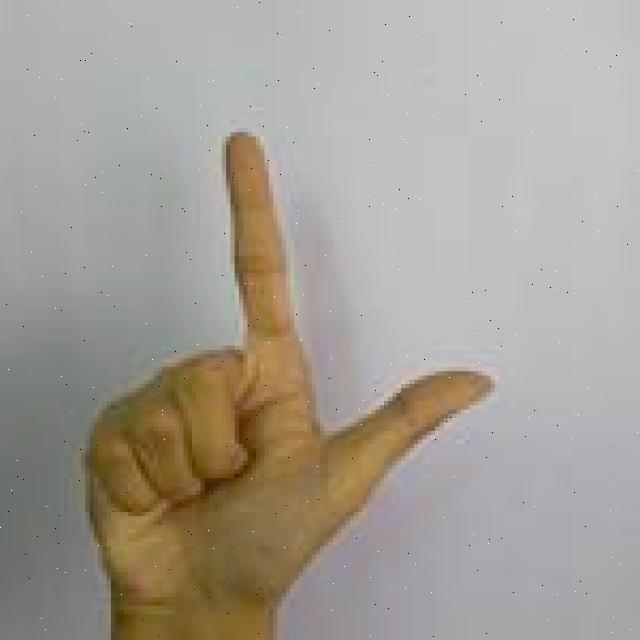L: (79, 125, 502, 640)
